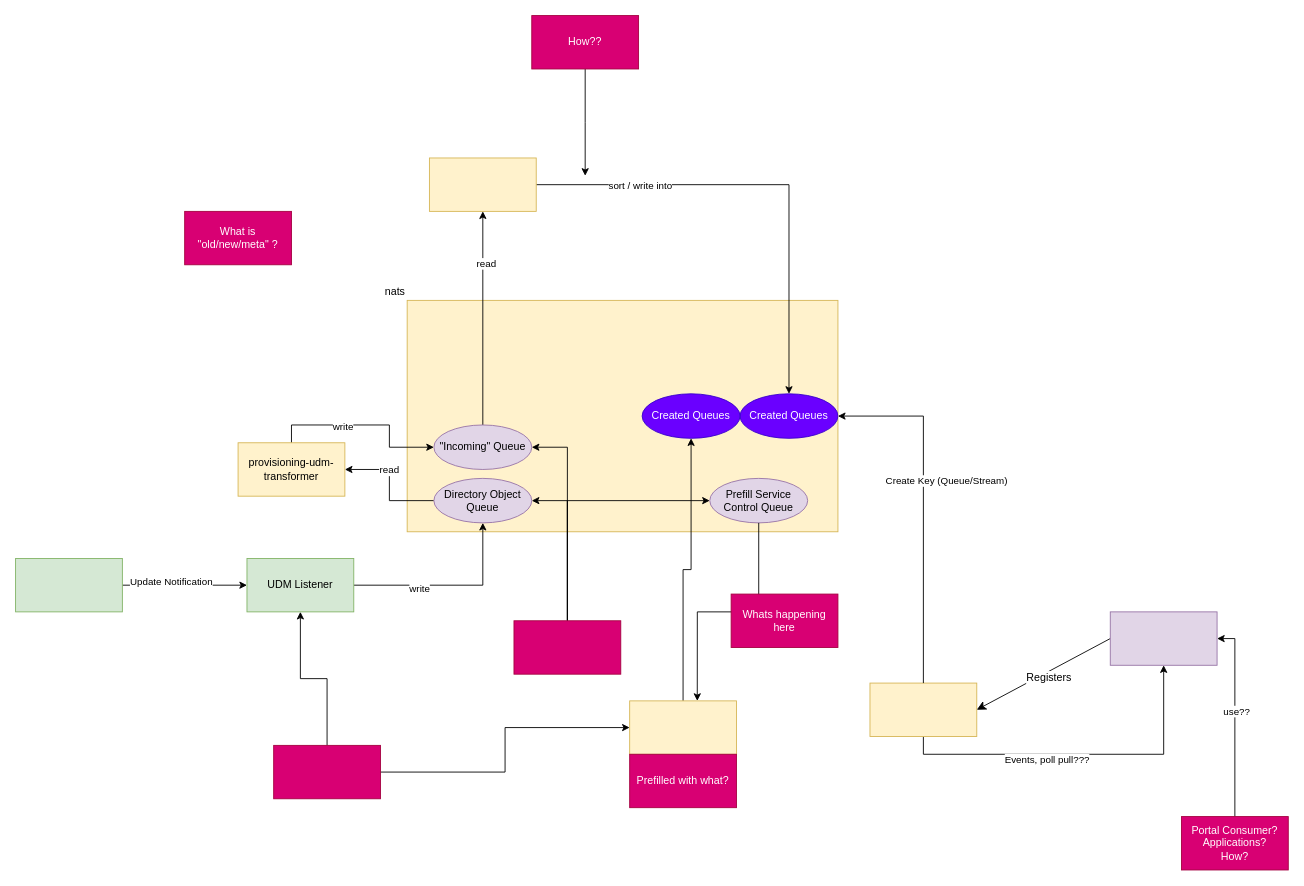
Some shapes in this 1304 by 886 pixel diagram are drawn without their labels. Here are the shapes that lost their labels. From the top down, the centre of each, then its label:
point 482,184: provisioning-dispatcher
point 68,585: LDAP Listener
point 567,647: Created By??
point 1163,638: Example Consumer
point 682,727: provisioning-prefill
point 923,709: provisioning-api
point 326,771: Connection??
